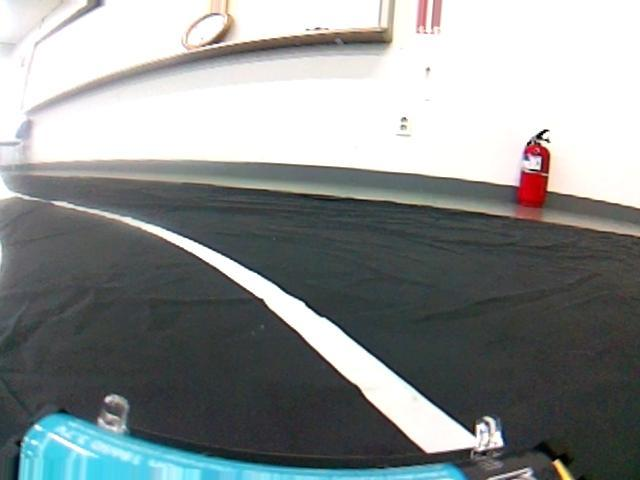left: (0, 221, 597, 478)
